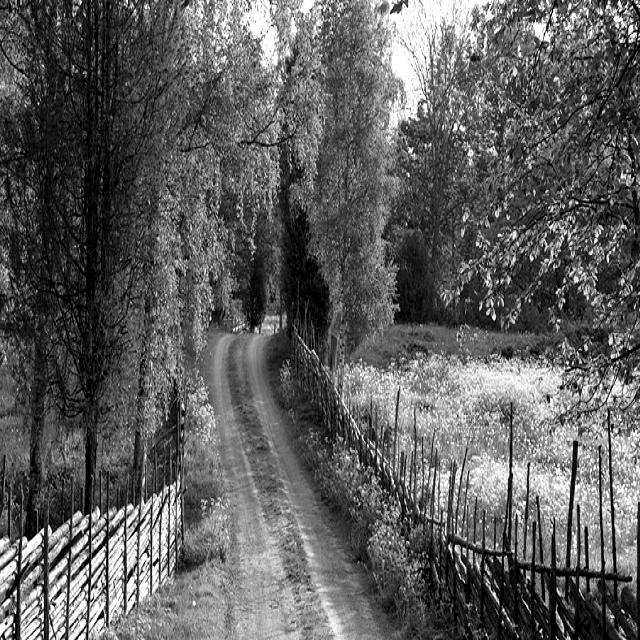cleat: (110, 238, 483, 640)
